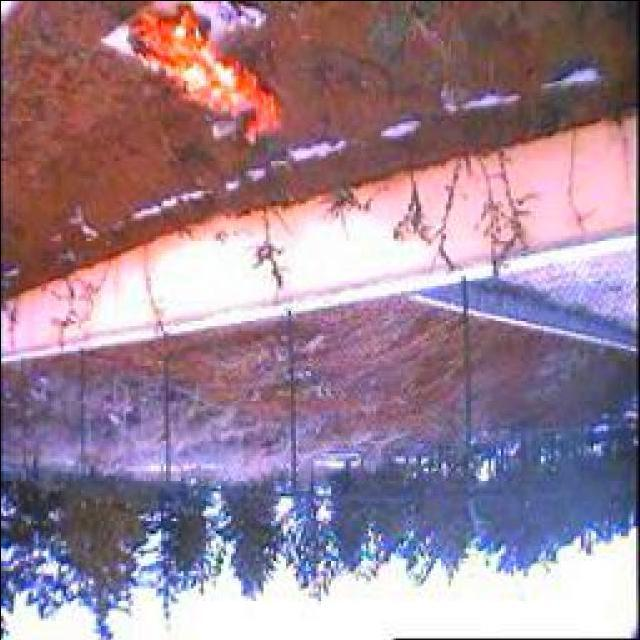Fire: (112, 0, 287, 146)
